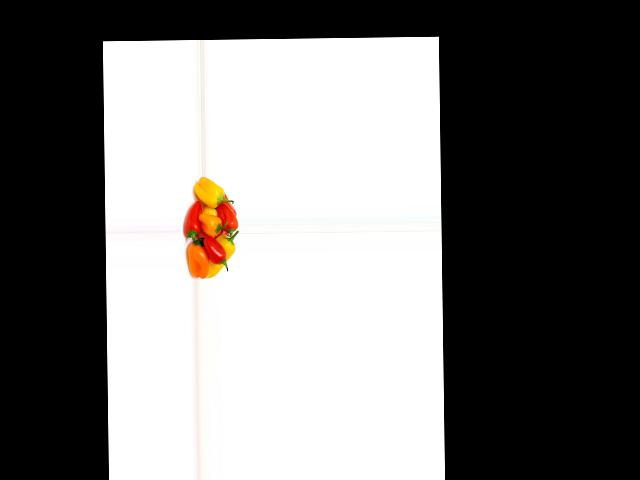bell_pepper: (206, 234, 238, 277)
